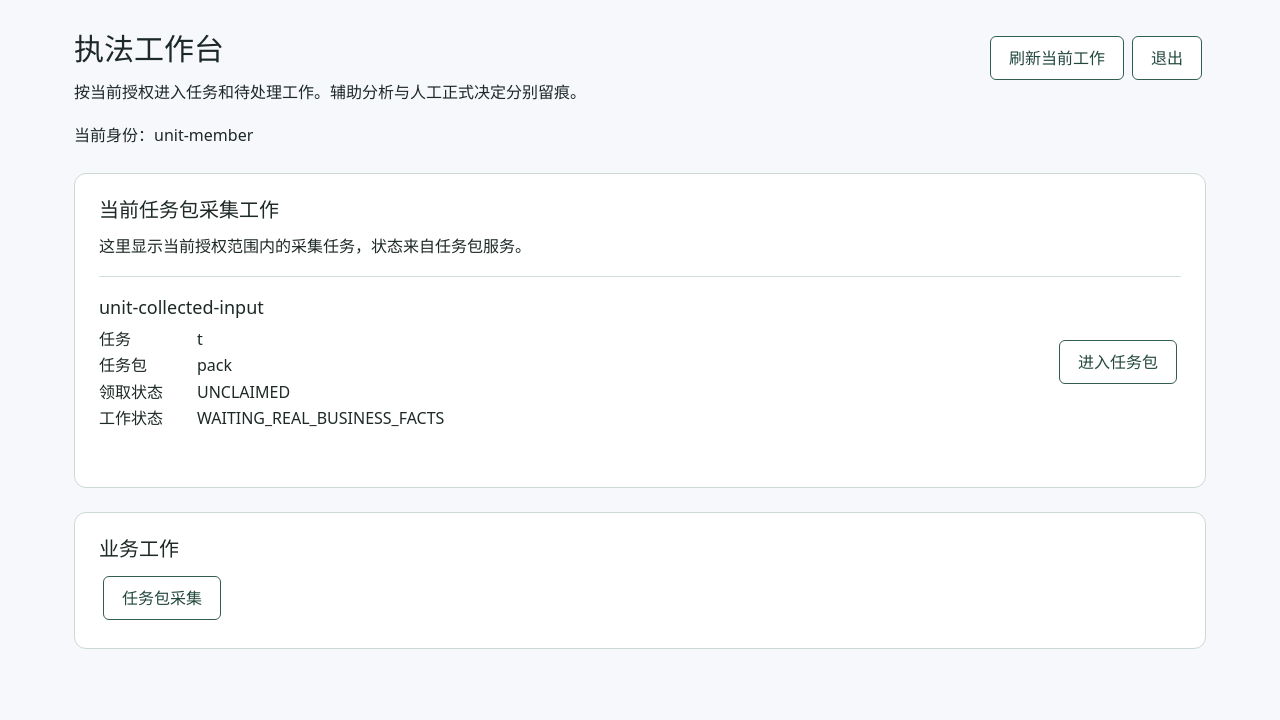
unconfirmed logout is not claimed as revocation success
The image size is (1280, 720).
Expected: the heading "unit-collected-input" is shown, [99,295,264,319]
Click the button "退出" at (1167, 58), box [1132,36,1202,80]
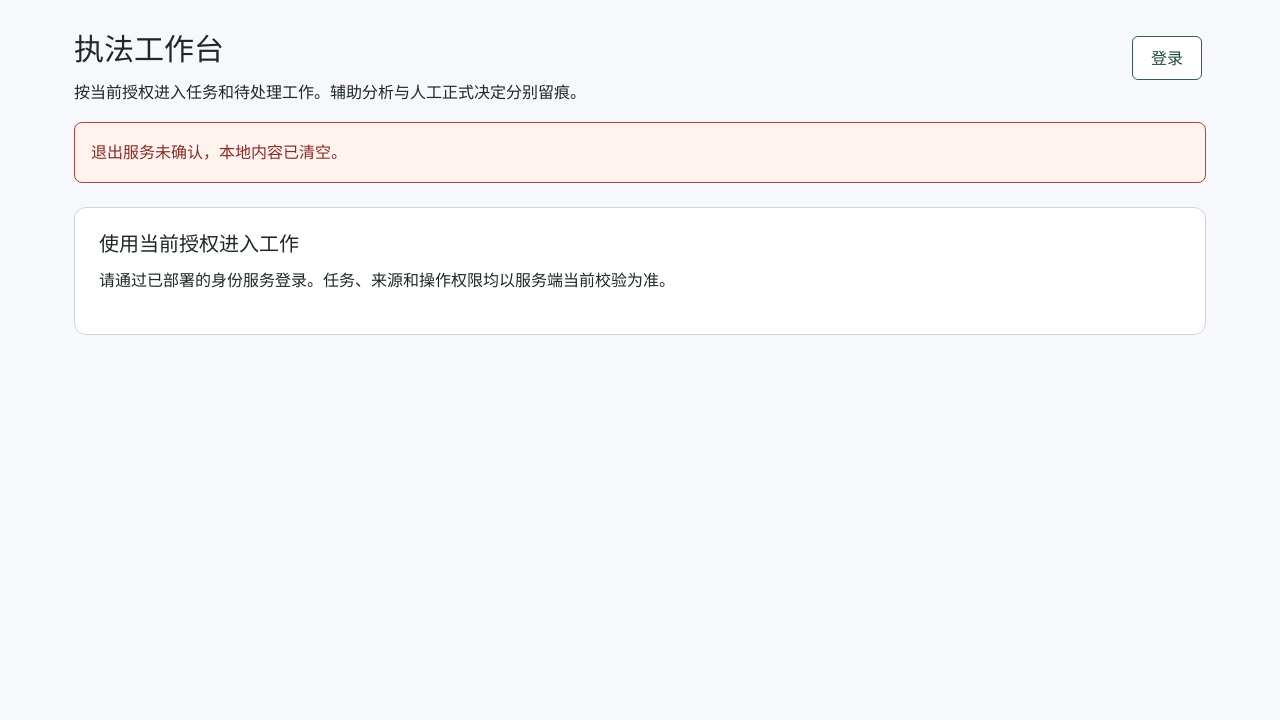
Now the message "退出服务未确认，本地内容已清空。" is shown, box [74,122,1206,183]
Now the heading "unit-collected-input" is gone
